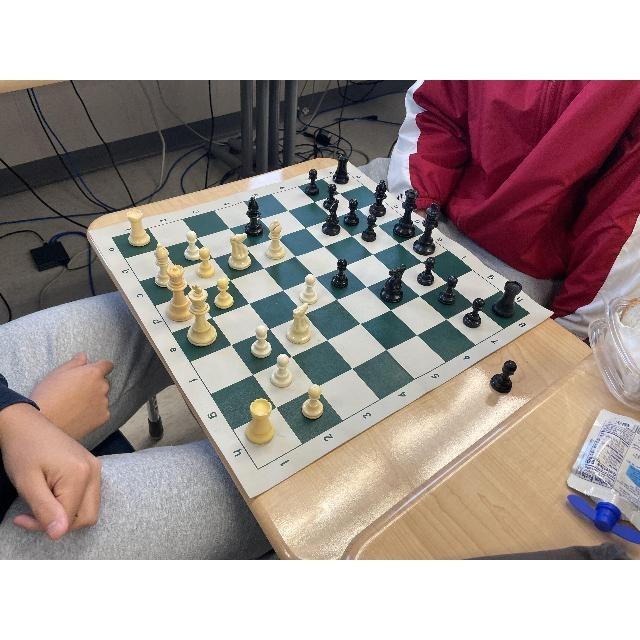black-bishop: (118, 358, 178, 448)
black-knight: (550, 275, 591, 314)
black-pawn: (494, 282, 520, 320), (380, 264, 407, 300), (460, 297, 484, 333), (328, 256, 350, 289), (417, 256, 440, 286), (434, 274, 456, 305), (301, 165, 323, 195), (323, 205, 341, 241), (362, 210, 380, 242)
black-rook: (328, 180, 354, 228), (322, 179, 344, 229), (242, 195, 264, 234), (418, 218, 440, 254), (369, 182, 391, 218), (393, 205, 416, 237), (331, 157, 353, 187)
white-bishop: (399, 332, 443, 392), (187, 287, 221, 349)
white-pawn: (240, 399, 279, 447), (289, 292, 319, 352), (163, 270, 192, 320), (262, 215, 288, 262), (264, 355, 296, 391), (226, 230, 250, 272), (296, 384, 327, 416), (192, 245, 216, 281), (245, 322, 270, 356), (213, 275, 236, 309), (129, 210, 152, 244), (149, 240, 169, 276), (181, 226, 201, 260)
